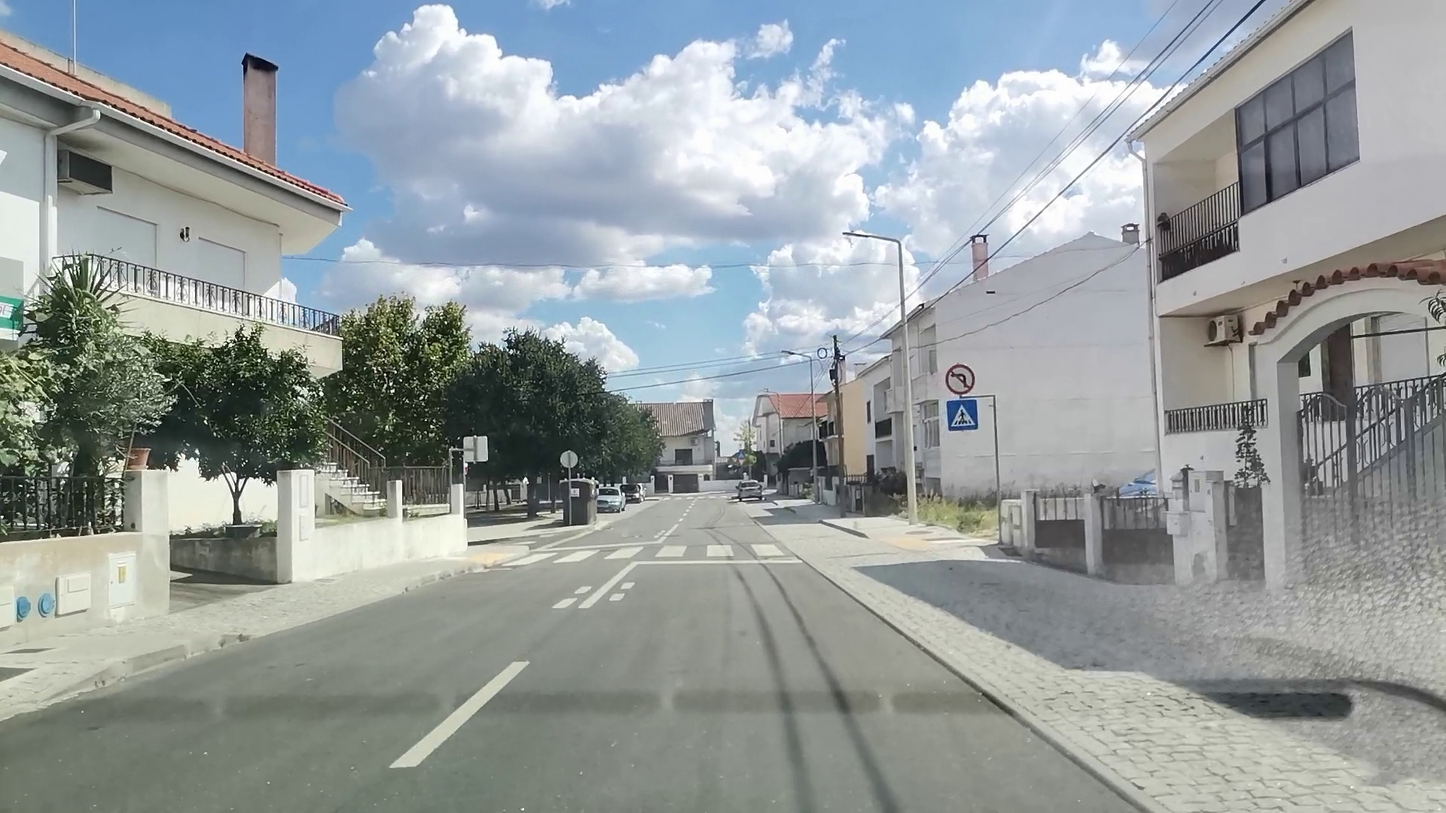Stairs: (500, 543, 784, 565)
